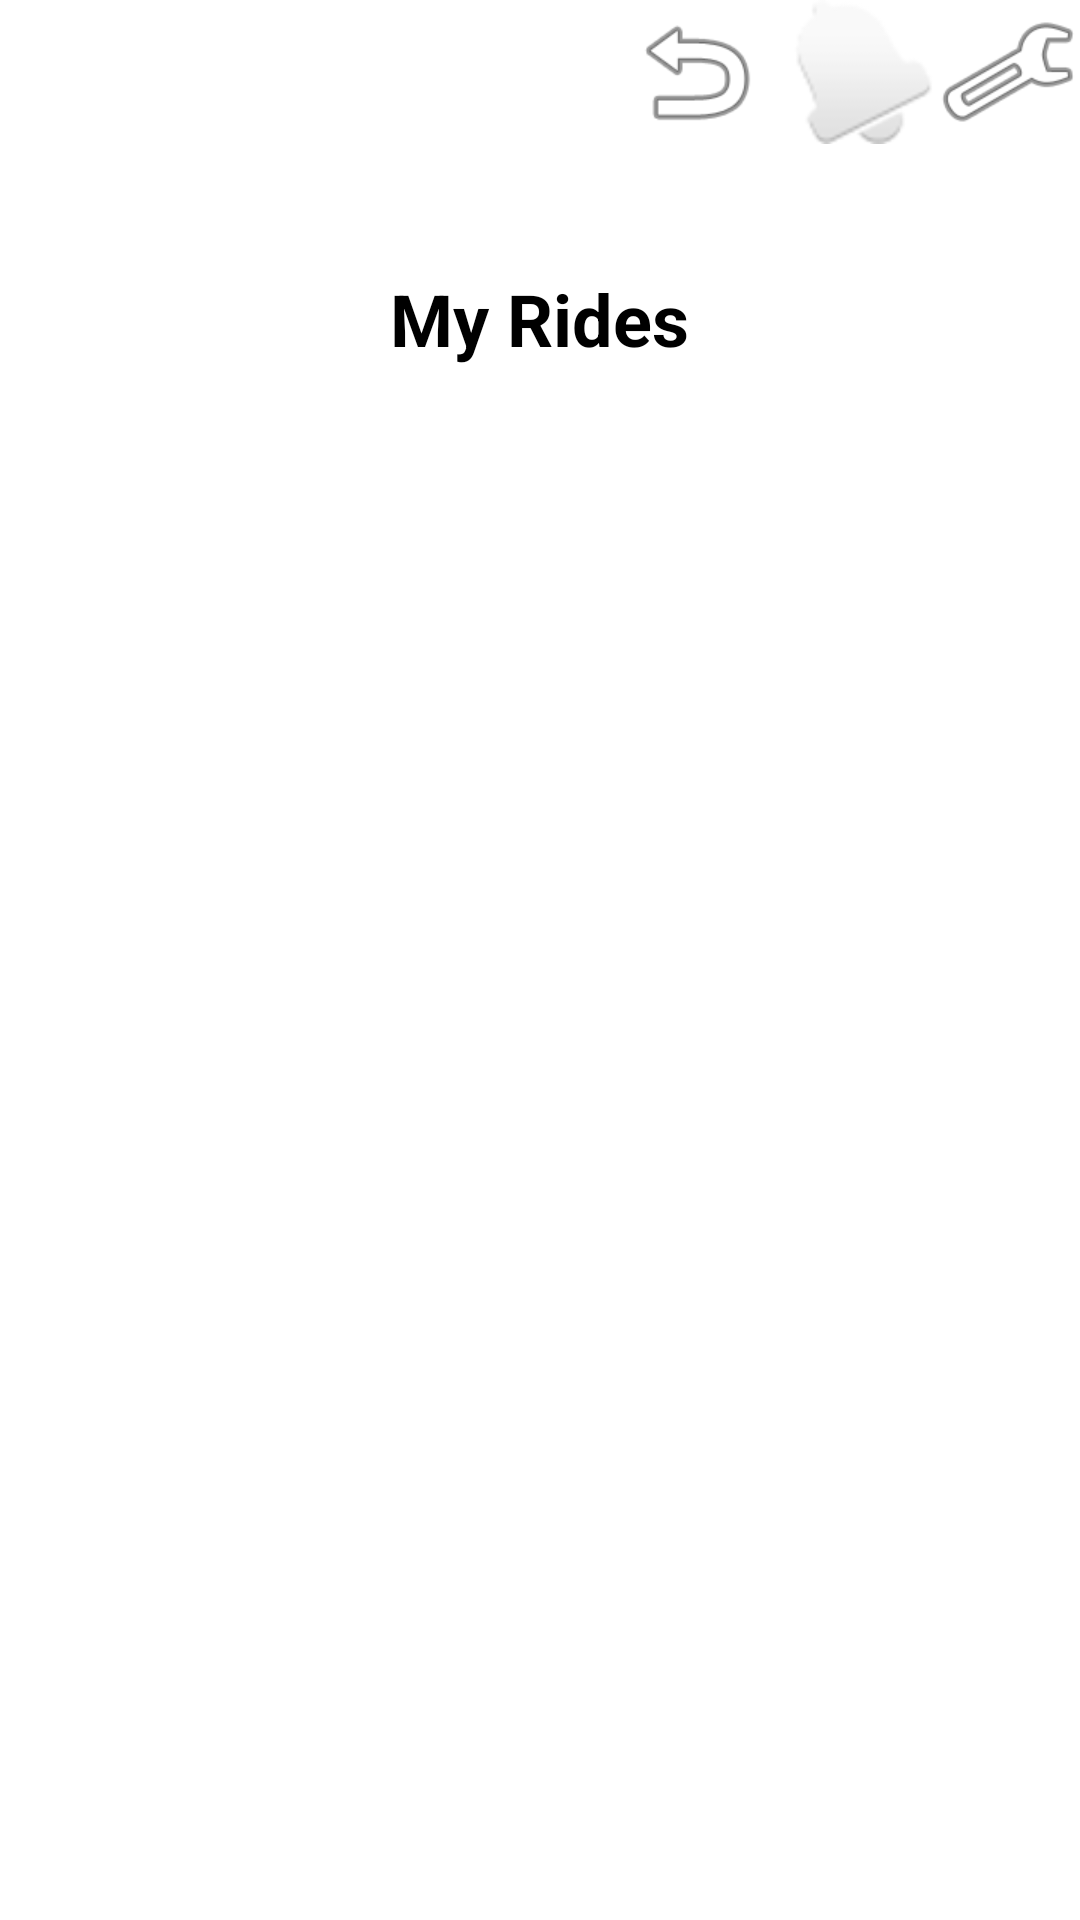

Named icons in this screenshot (1080px x 1920px) and their centers, (x,y):
הגדרות: (1008,72)
חזור: (698,73)
